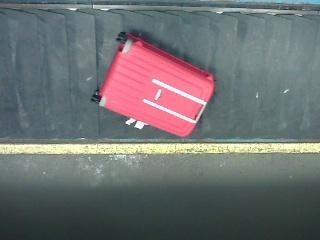Suitcase: (99, 33, 214, 137)
